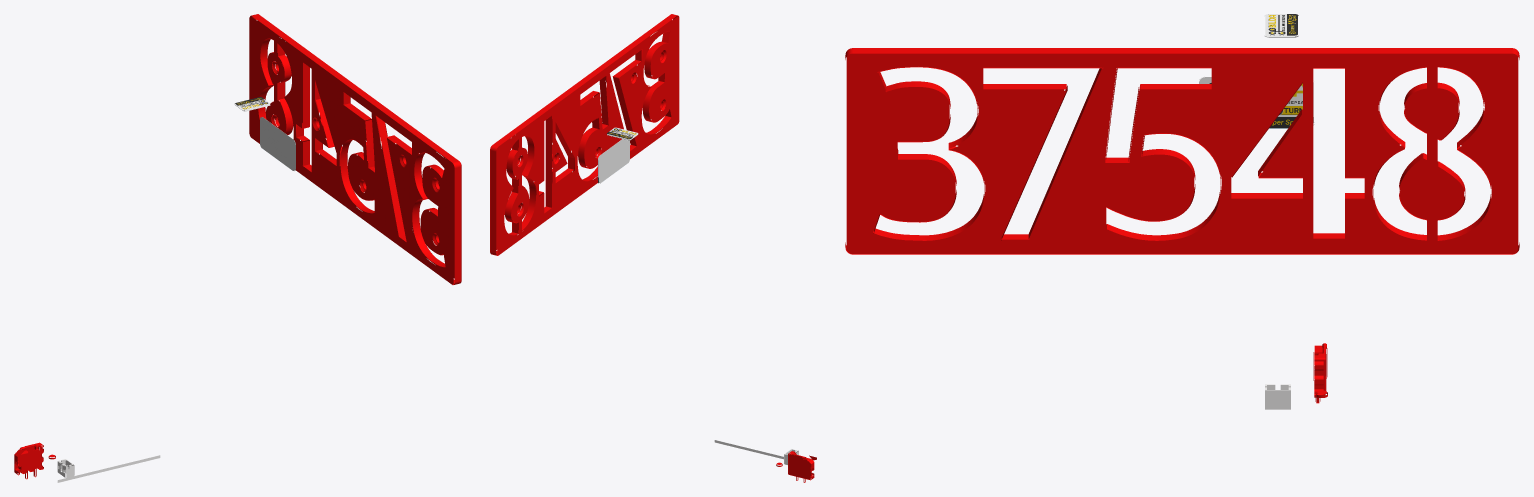
File: bot-labels.glb
The picture shows the model from 3 angles, left to right: view 1: azimuth 30°, elevation 25°; view 2: azimuth 150°, elevation 25°; view 3: azimuth 270°, elevation 25°; orthographic projection. The views are drawn at different scales.
Bounding box in the file's own units: 0.176 × 0.1938 × 0.2055.
